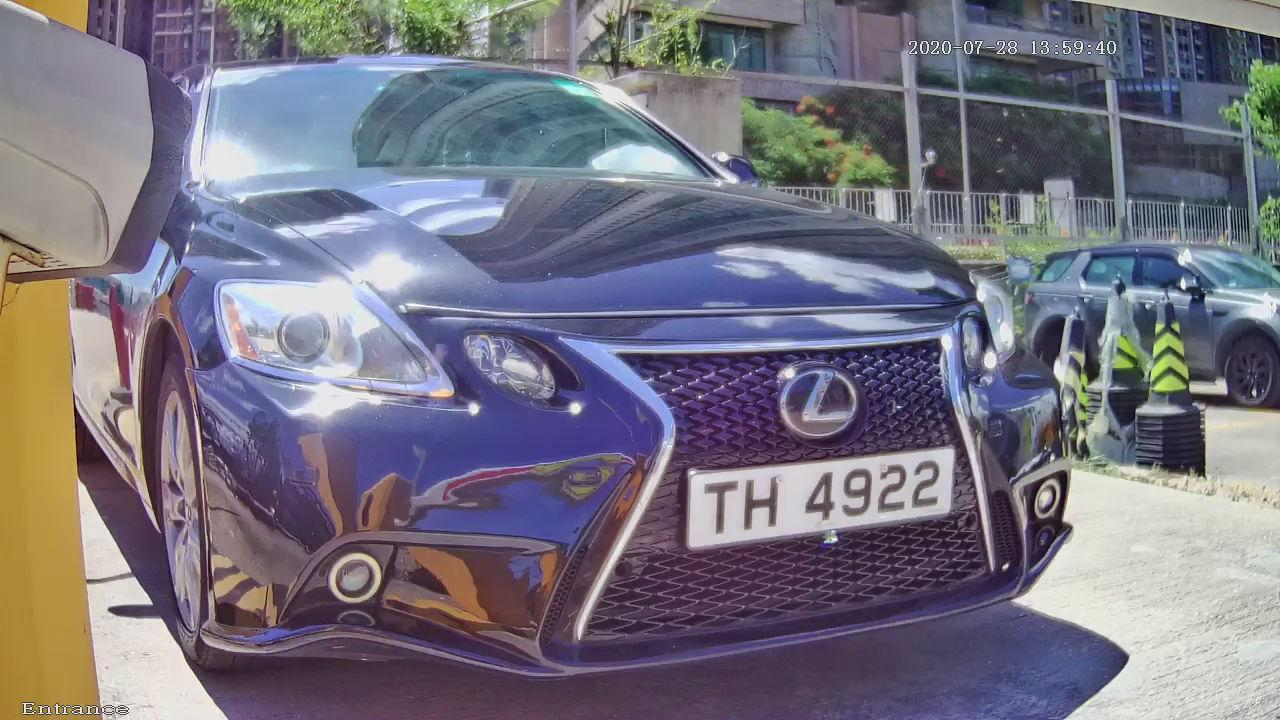privatecar: (46, 20, 1172, 704)
